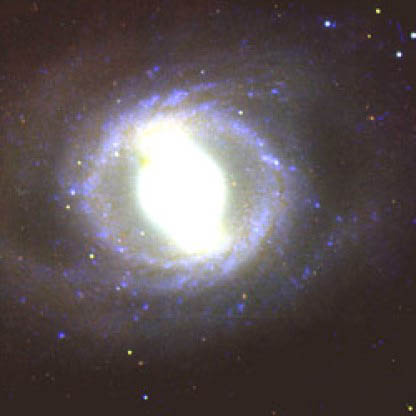Messier 95: (45, 83, 357, 332)
